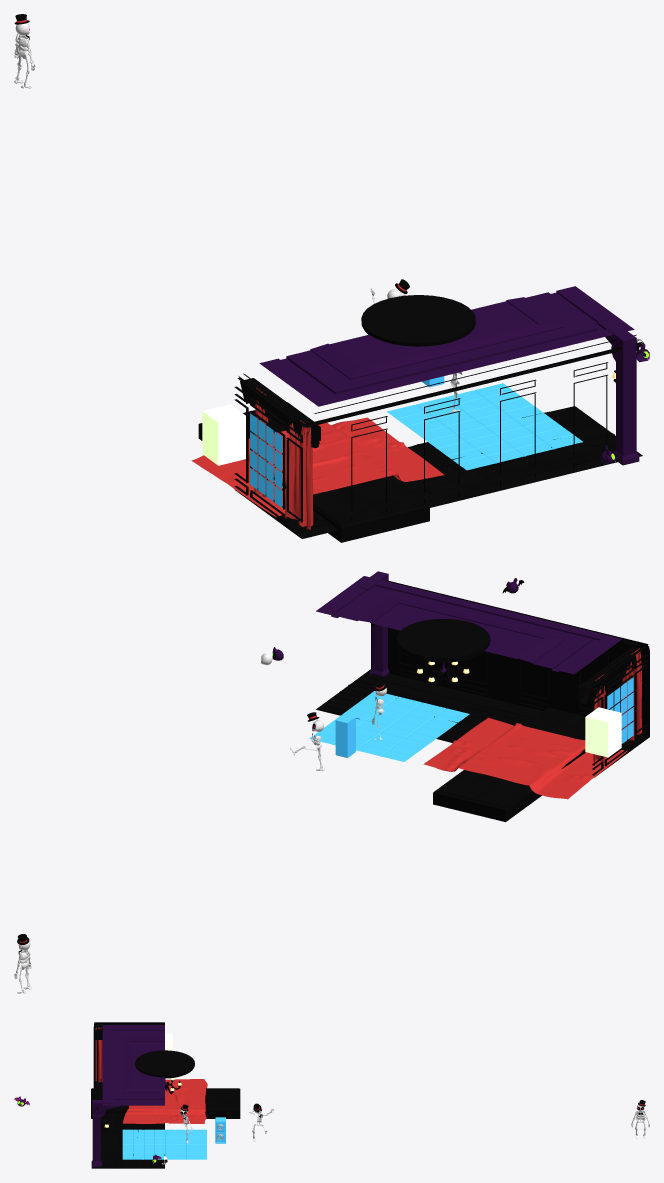
File: skeleton-dance.glb
3 views of the same model, one above another, from view 1: azimuth 30°, elevation 25°; view 2: azimuth 150°, elevation 25°; view 3: azimuth 270°, elevation 25° (orthographic). The views are drawn at different scales.
Visible parts, largest first — view 1: Cube.007, Cube.009, Cube.008, Cube.019, Cube, Cube.001, Cube.003, Cube.002, Cube.018, Cube.014, Cube.004, Cube.013 (+1 smaller); view 2: Cube, Cube.007, Cube.019, Cube.009, Cube.008, Cube.001, Cube.003, Cube.014, Cube.002, Cube.013, Cube.018, Cube.004 (+1 smaller); view 3: Cube.007, Cube.009, Cube.019, Cube.008, Cube.001, Cube.003, Cube.002, Cube, JiggleSkull.007, Cube.018, Cube.017.
Boxes of the visible parts, bbox=[...] form: Cube.007: bbox=[259, 286, 634, 406]; Cube.009: bbox=[387, 383, 582, 470]; Cube.008: bbox=[234, 406, 642, 538]; Cube.019: bbox=[191, 417, 444, 516]; Cube: bbox=[234, 334, 641, 535]; Cube.001: bbox=[198, 402, 429, 542]; Cube.003: bbox=[361, 295, 475, 346]; Cube.002: bbox=[597, 319, 639, 465]; Cube.018: bbox=[254, 387, 313, 529]; Cube.014: bbox=[202, 404, 245, 465]; Cube.004: bbox=[250, 413, 282, 507]; Cube.013: bbox=[240, 378, 320, 448]; Cube: bbox=[371, 580, 649, 775]; Cube.007: bbox=[316, 576, 621, 674]; Cube.019: bbox=[423, 717, 627, 799]; Cube.009: bbox=[309, 691, 469, 761]; Cube.008: bbox=[316, 669, 649, 777]; Cube.001: bbox=[433, 708, 585, 822]; Cube.003: bbox=[396, 619, 490, 662]; Cube.014: bbox=[585, 707, 621, 757]; Cube.002: bbox=[357, 571, 389, 676]; Cube.013: bbox=[578, 647, 636, 704]; Cube.018: bbox=[593, 648, 642, 762]; Cube.004: bbox=[607, 677, 633, 743]; Cube.007: bbox=[102, 1025, 164, 1105]; Cube.009: bbox=[122, 1129, 206, 1159]; Cube.019: bbox=[122, 1079, 207, 1123]; Cube.008: bbox=[93, 1081, 164, 1168]; Cube.001: bbox=[91, 1088, 240, 1118]; Cube.003: bbox=[135, 1050, 194, 1078]; Cube.002: bbox=[91, 1100, 119, 1168]; Cube: bbox=[93, 1022, 164, 1110]; JiggleSkull.007: bbox=[631, 1100, 649, 1138]; Cube.018: bbox=[95, 1027, 102, 1082]; Cube.017: bbox=[215, 1117, 225, 1143].
Bounding box in the file's own units: 65.58 × 19.68 × 159.
